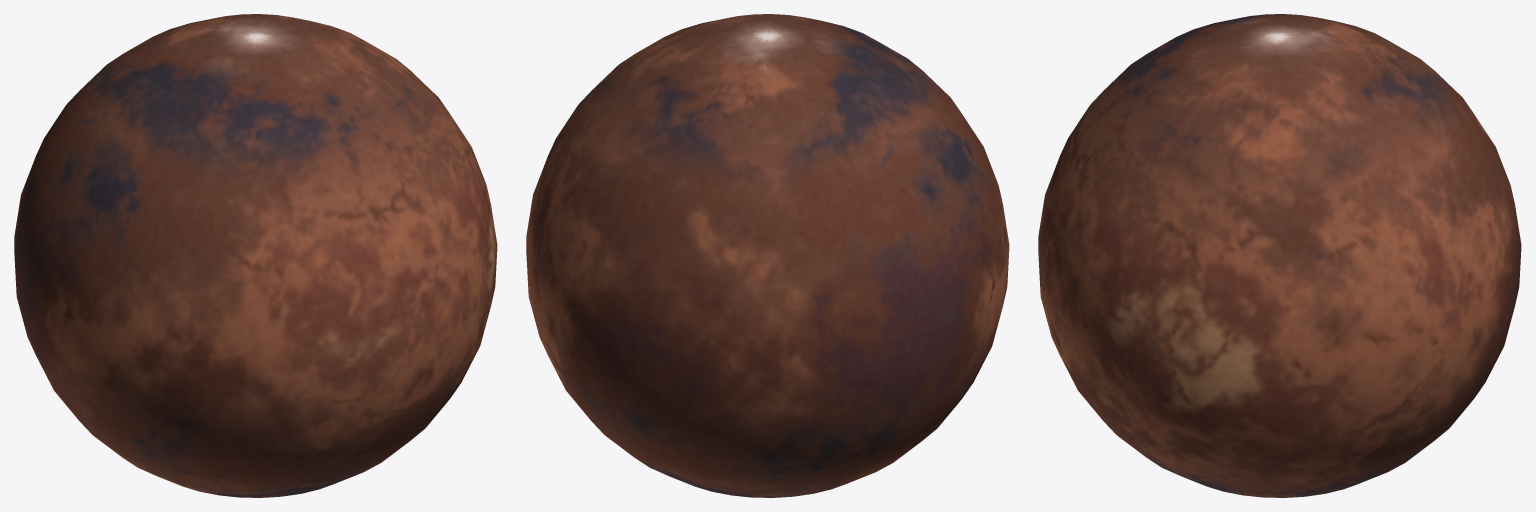
File: planet_14.glb
3 views of the same model, side by side, from view 1: azimuth 30°, elevation 25°; view 2: azimuth 150°, elevation 25°; view 3: azimuth 270°, elevation 25° (orthographic).
Visible parts, largest first — view 1: Sphere001; view 2: Sphere001; view 3: Sphere001.
Boxes of the visible parts, left/top/right/bottom form: Sphere001: left=14, top=14, right=497, bottom=497; Sphere001: left=526, top=14, right=1009, bottom=497; Sphere001: left=1038, top=14, right=1521, bottom=497.
Size of the model in its own units: 3.15 by 3.16 by 3.15.
1 material, 1 textured.
